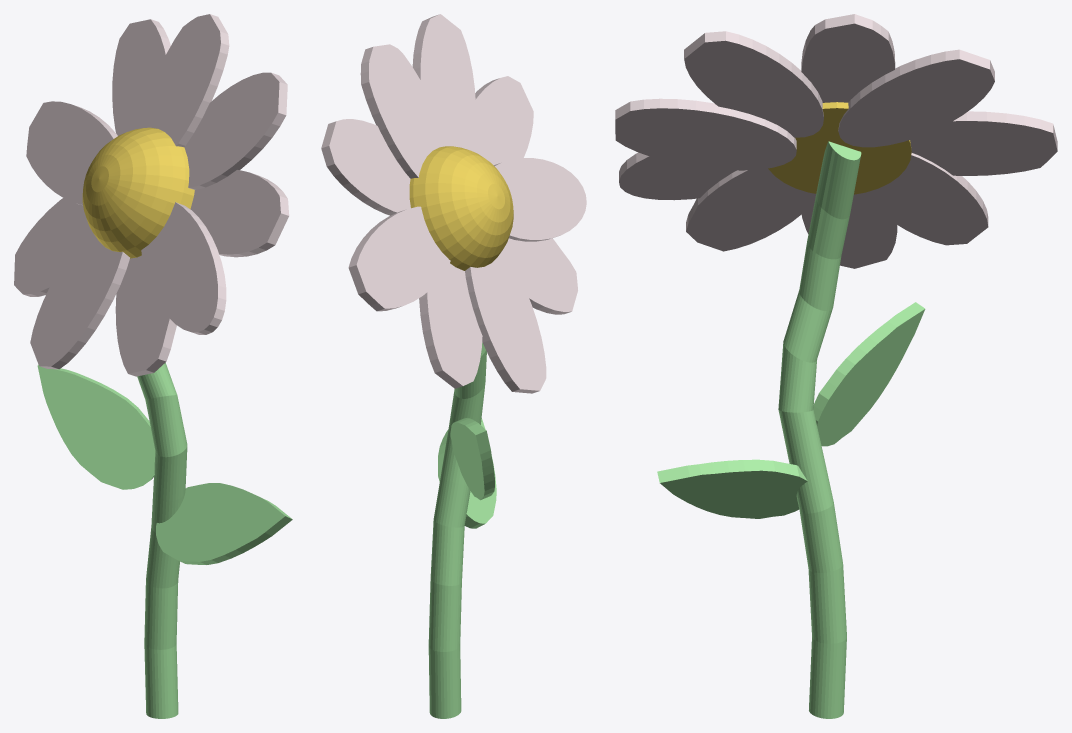
Rendered from Daisy.fbx.
The picture shows the model from 3 angles, left to right: view 1: azimuth 30°, elevation 25°; view 2: azimuth 150°, elevation 25°; view 3: azimuth 270°, elevation 25°; orthographic projection. The views are drawn at different scales.
Visible parts, largest first — view 1: Sphere.004; view 2: Sphere.004; view 3: Sphere.004.
Part boxes in pixels (x1,y1,x2,y2): Sphere.004: [14, 14, 292, 718]; Sphere.004: [321, 14, 586, 718]; Sphere.004: [615, 14, 1057, 718].
Bounding box in the file's own units: 113 × 403 × 221.
